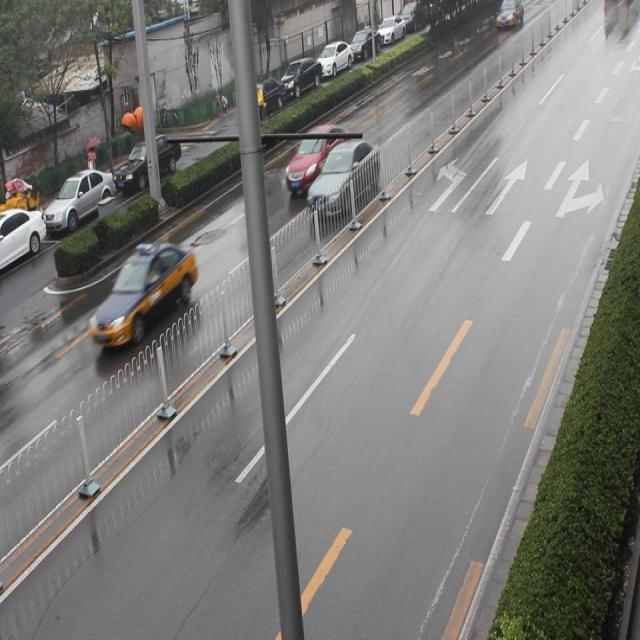car: (85, 238, 198, 348), (306, 138, 380, 212), (283, 120, 351, 196)
